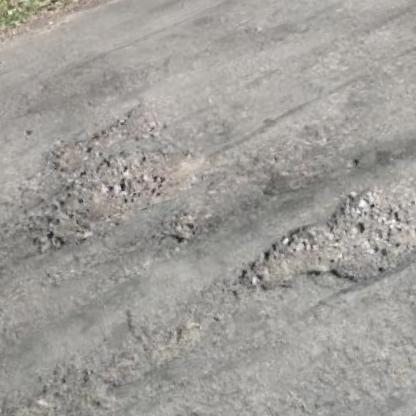pothole: (220, 168, 416, 311), (0, 131, 213, 255), (34, 94, 179, 175), (157, 206, 209, 252)
